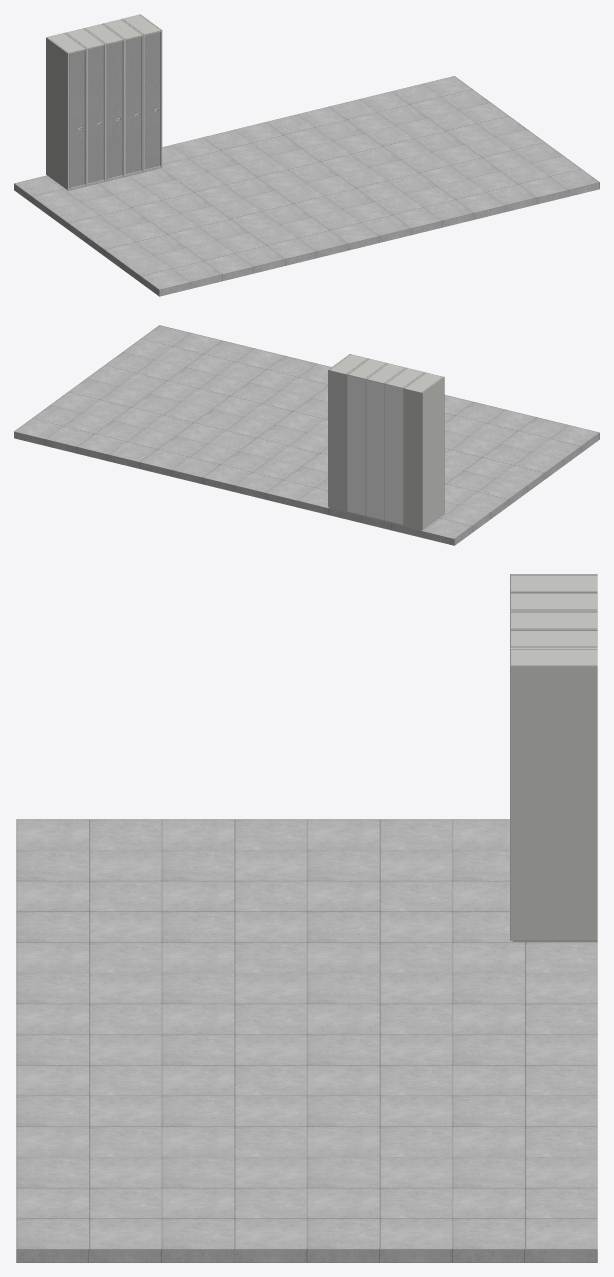
Rendered from modell.glb.
3 renders of one model, top to bottom at view 1: azimuth 30°, elevation 25°; view 2: azimuth 150°, elevation 25°; view 3: azimuth 270°, elevation 25°, orthographic. The views are drawn at different scales.
Bounding box in the file's own units: 7003 × 2203 × 4003.
11 materials, 4 textured.
